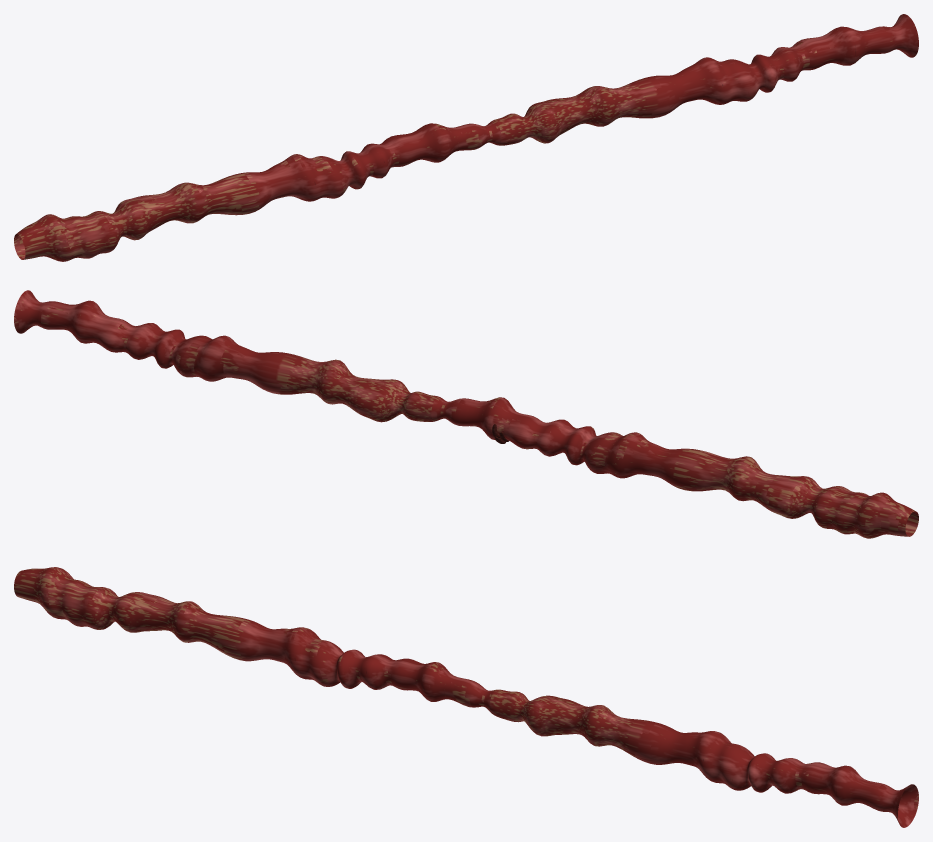
Rendered from monitors.glb.
3 views of the same model, one above another, from view 1: azimuth 30°, elevation 25°; view 2: azimuth 150°, elevation 25°; view 3: azimuth 330°, elevation 25° (orthographic).
Visible parts, largest first — view 1: Cylinder.001, Cylinder.005; view 2: Cylinder.001, Cylinder.005; view 3: Cylinder.001, Cylinder.005.
Part boxes in pixels (x1,y1,x2,y2): Cylinder.001: (14, 14, 918, 261); Cylinder.005: (493, 81, 647, 145); Cylinder.001: (14, 290, 918, 538); Cylinder.005: (286, 356, 438, 422); Cylinder.001: (14, 567, 918, 827); Cylinder.005: (489, 689, 638, 754).
Bounding box in the file's own units: 35.97 × 1.99 × 1.87.
Materials: 3 (3 with a texture image).
